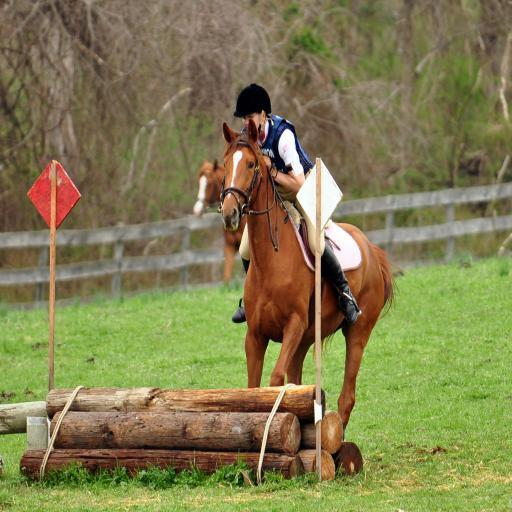horse: (220, 120, 406, 441), (192, 159, 254, 283)
